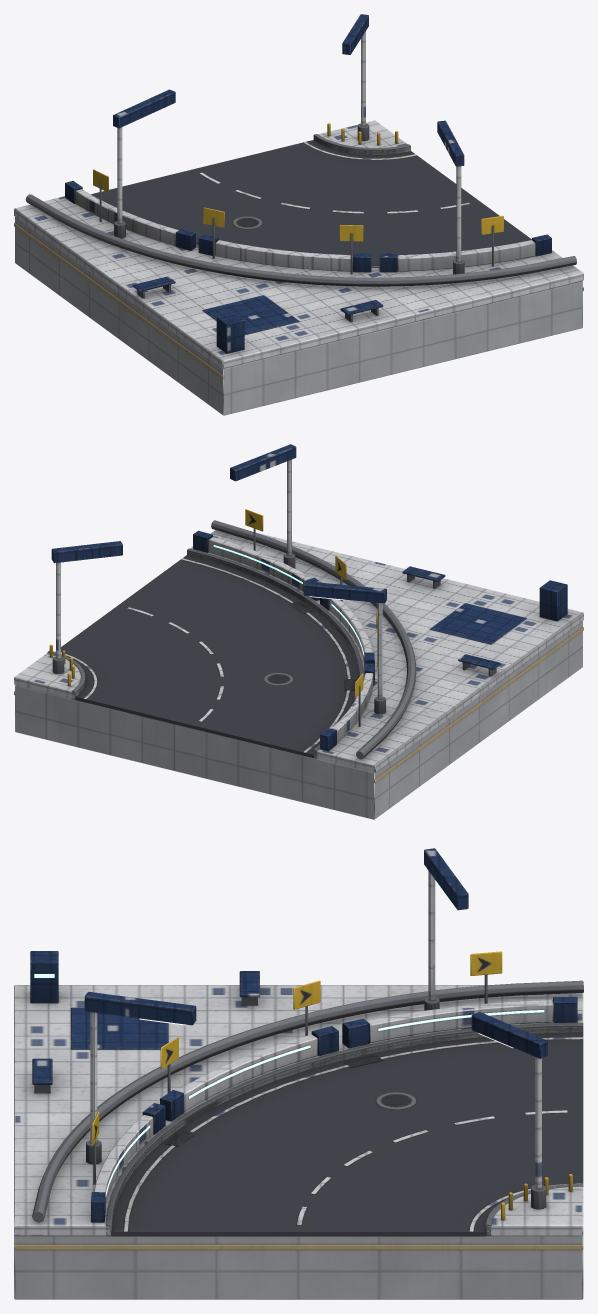
Rendered from 重製_轉角道路.glb.
3 renders of one model, top to bottom at view 1: azimuth 30°, elevation 25°; view 2: azimuth 150°, elevation 25°; view 3: azimuth 270°, elevation 25°, orthographic. The views are drawn at different scales.
Visible parts, largest first — view 1: Road_cn_Mesh; view 2: Road_cn_Mesh; view 3: Road_cn_Mesh.
Boxes of the visible parts, bbox=[...] form: Road_cn_Mesh: bbox=[14, 14, 583, 415]; Road_cn_Mesh: bbox=[14, 444, 583, 819]; Road_cn_Mesh: bbox=[14, 848, 583, 1299].
Size of the model in its own units: 14.01 by 6.57 by 14.01.
Materials: 3 (1 with a texture image).
